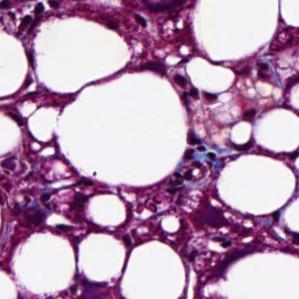inflammation: (179, 130, 222, 171)
